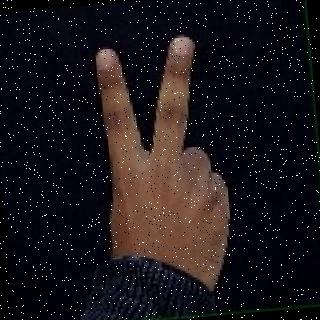V: (85, 28, 246, 290)
